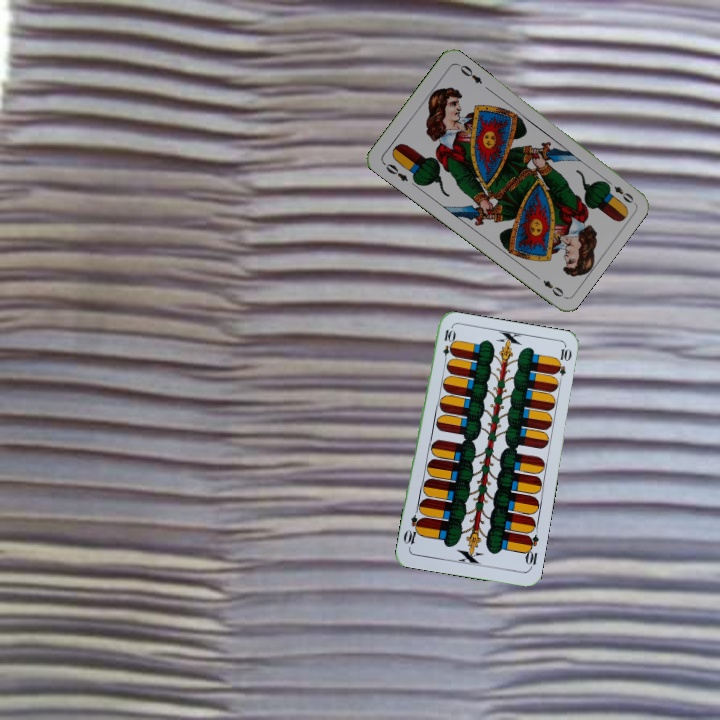E10: (521, 531, 541, 571), (439, 326, 456, 366)
EO: (601, 176, 636, 206), (379, 158, 411, 184)
